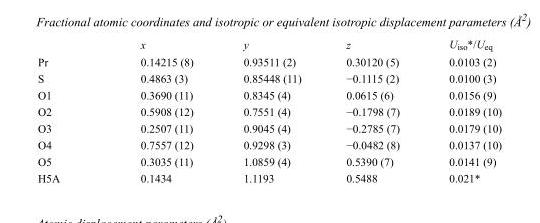table: (37, 37, 501, 183)
table column: (99, 37, 217, 183), (217, 37, 323, 183), (323, 37, 423, 183), (423, 37, 501, 183), (37, 37, 99, 183)
table column header: (37, 37, 501, 53)
table row: (37, 69, 501, 86), (37, 102, 501, 119), (37, 119, 501, 136), (37, 152, 501, 169), (37, 37, 501, 53), (37, 53, 501, 69), (37, 86, 501, 102), (37, 136, 501, 152), (37, 169, 501, 183)
